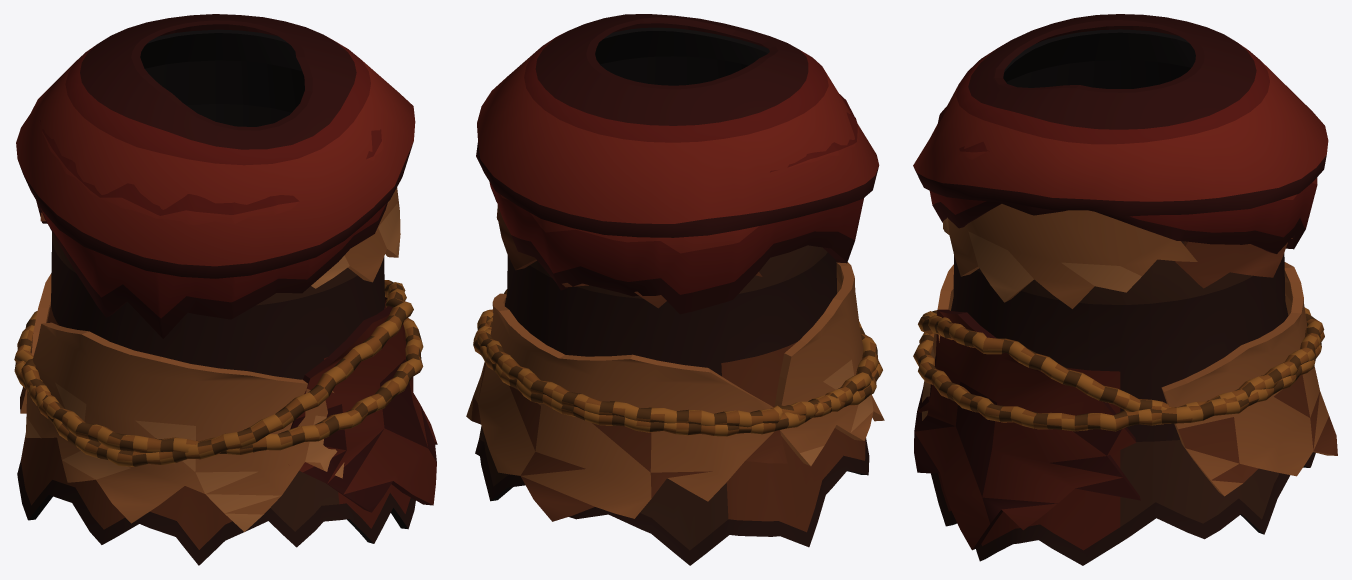
Rendered from RaggedOutcastWrap.fbx.
The picture shows the model from 3 angles, left to right: view 1: azimuth 30°, elevation 25°; view 2: azimuth 150°, elevation 25°; view 3: azimuth 270°, elevation 25°; orthographic projection.
Parts seen in each view (by area): view 1: Outcast wrap layers; view 2: Outcast wrap layers; view 3: Outcast wrap layers.
Part boxes in pixels (x1,y1,x2,y2): Outcast wrap layers: (14, 14, 437, 565); Outcast wrap layers: (466, 14, 884, 565); Outcast wrap layers: (913, 14, 1337, 565).
Bounding box in the file's own units: 0.3605 × 0.44 × 0.3794.
1 material, 1 textured.
